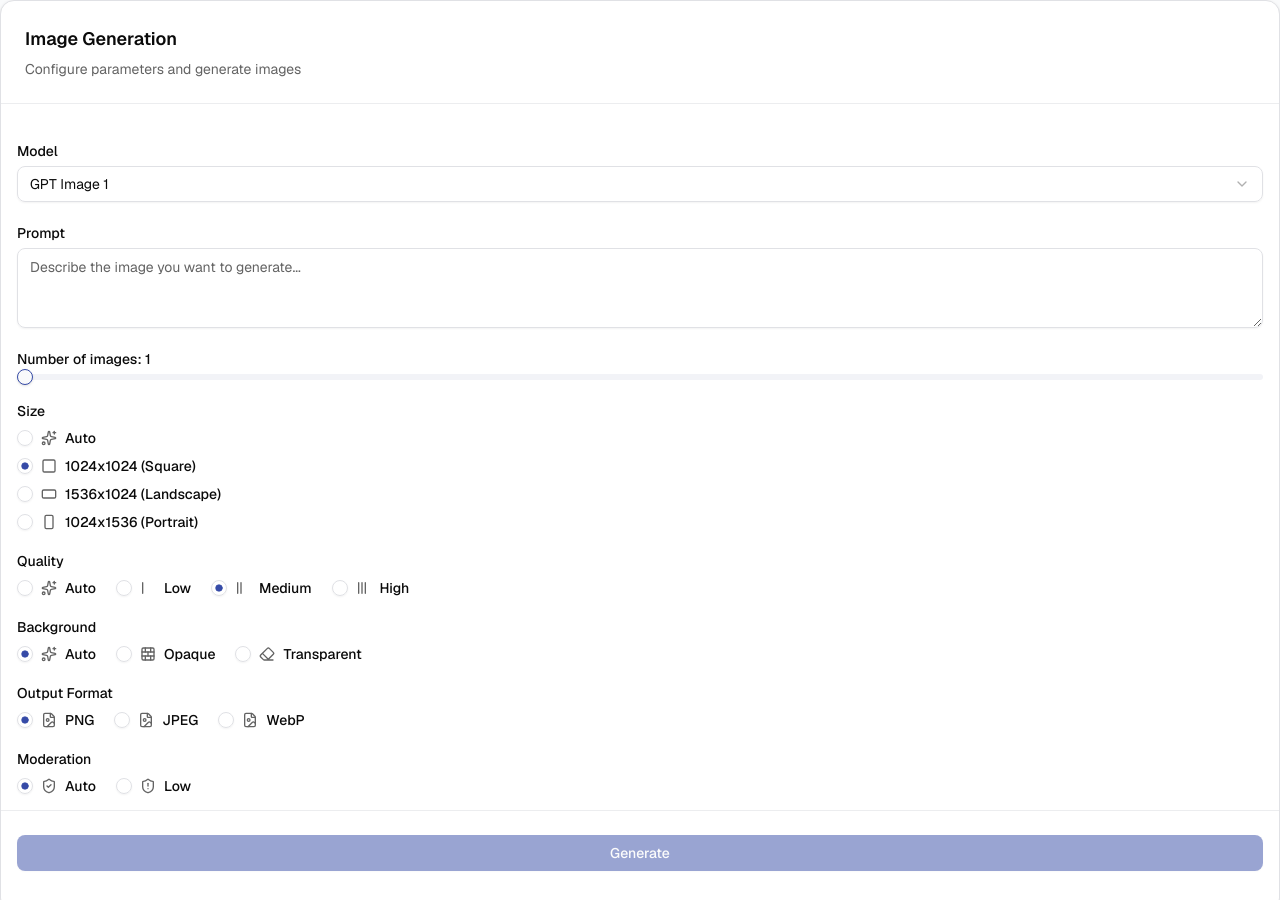
GenerationForm › enables submit button when prompt is filled
In the text box with placeholder "Describe the image you want to generate...": (640, 288) [17,248,1263,328], type "A red fox"
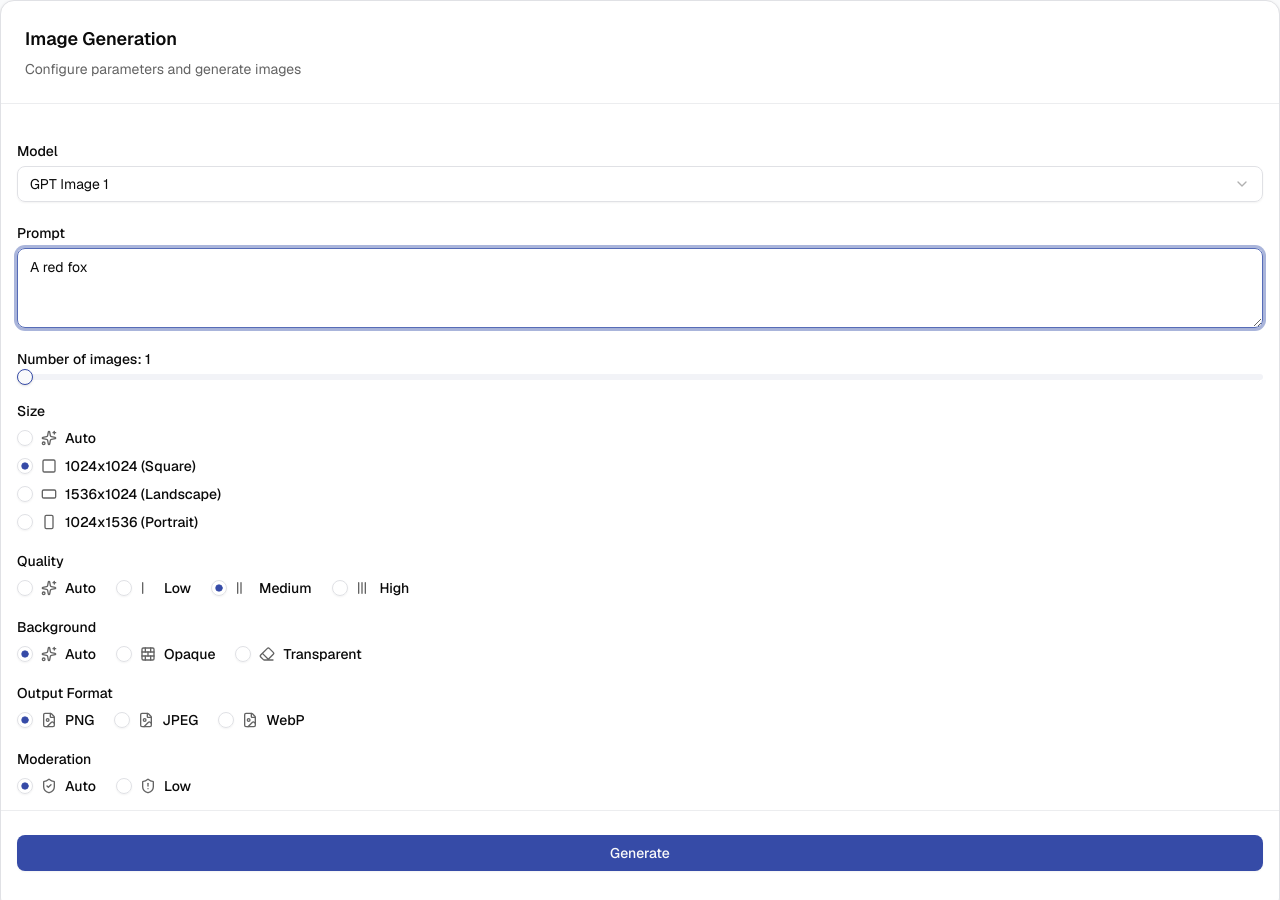
Expected: the button "Generate" is enabled, [17,835,1263,871]
